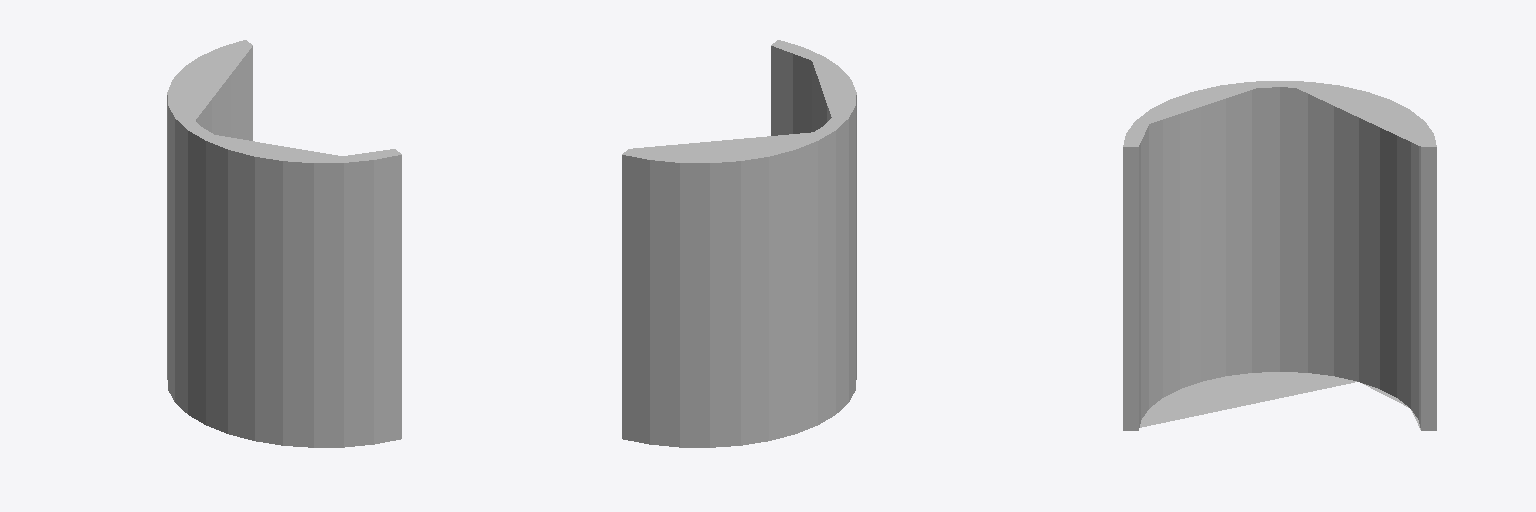
File: hcyl.obj
The picture shows the model from 3 angles: view 1: azimuth 30°, elevation 25°; view 2: azimuth 150°, elevation 25°; view 3: azimuth 270°, elevation 25°; orthographic projection.
Visible parts, largest first — view 1: Cylinder; view 2: Cylinder; view 3: Cylinder.
Boxes of the visible parts, box(x1,y1,x2,y2) form: Cylinder: box(167, 40, 401, 447); Cylinder: box(622, 40, 856, 447); Cylinder: box(1123, 81, 1436, 430).
Bounding box in the file's own units: 1 × 2 × 2.